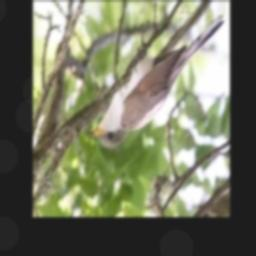Cuckoo: (88, 16, 224, 149)
